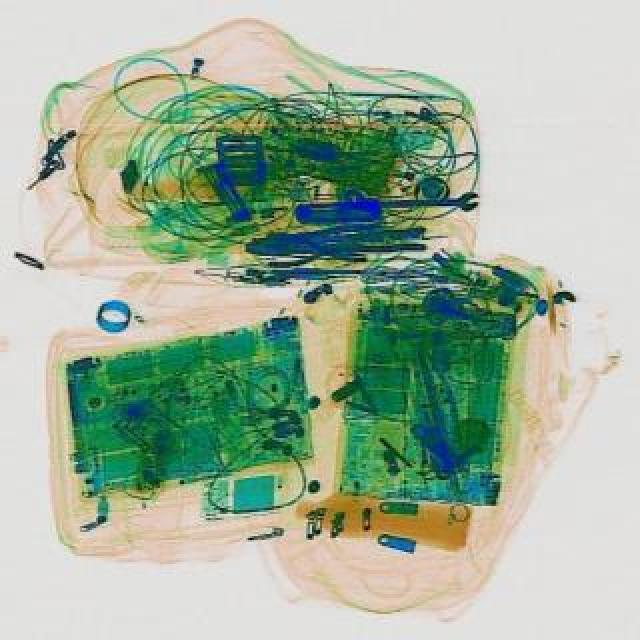scissors: (348, 190, 478, 214)
wrench: (262, 216, 382, 260)
